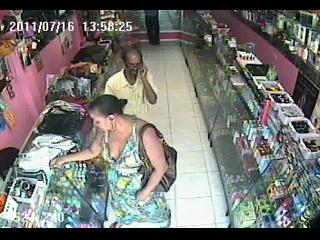Normal: (50, 94, 172, 226), (104, 47, 159, 117), (144, 10, 160, 46)
